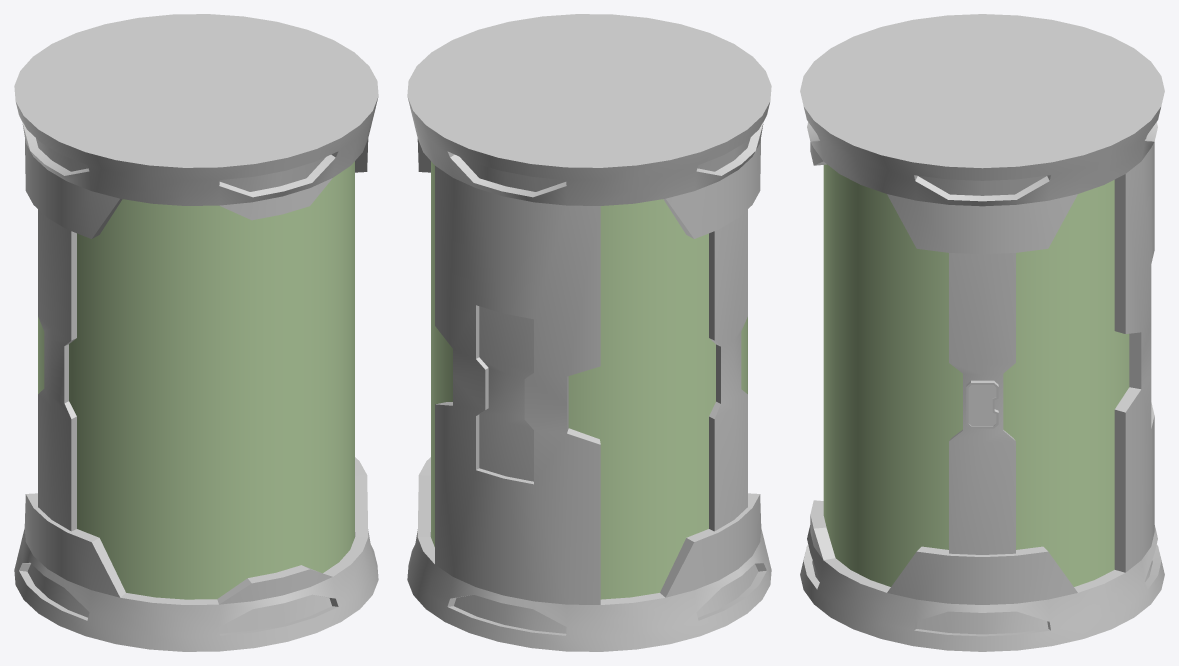
File: Jar.fbx
3 renders of one model, left to right at view 1: azimuth 30°, elevation 25°; view 2: azimuth 150°, elevation 25°; view 3: azimuth 270°, elevation 25°, orthographic.
Visible parts, largest first — view 1: Cylinder.003, Circle; view 2: Circle, Cylinder.003; view 3: Circle, Cylinder.003, Plane.067.
Boxes of the visible parts, x1,y1,x2,y2 form: Cylinder.003: (38, 161, 354, 599); Circle: (14, 14, 378, 651); Circle: (407, 14, 771, 651); Cylinder.003: (431, 161, 747, 599); Circle: (800, 14, 1164, 651); Cylinder.003: (823, 164, 1129, 586); Plane.067: (966, 380, 998, 428).
Bounding box in the file's own units: 179 × 262 × 179.
